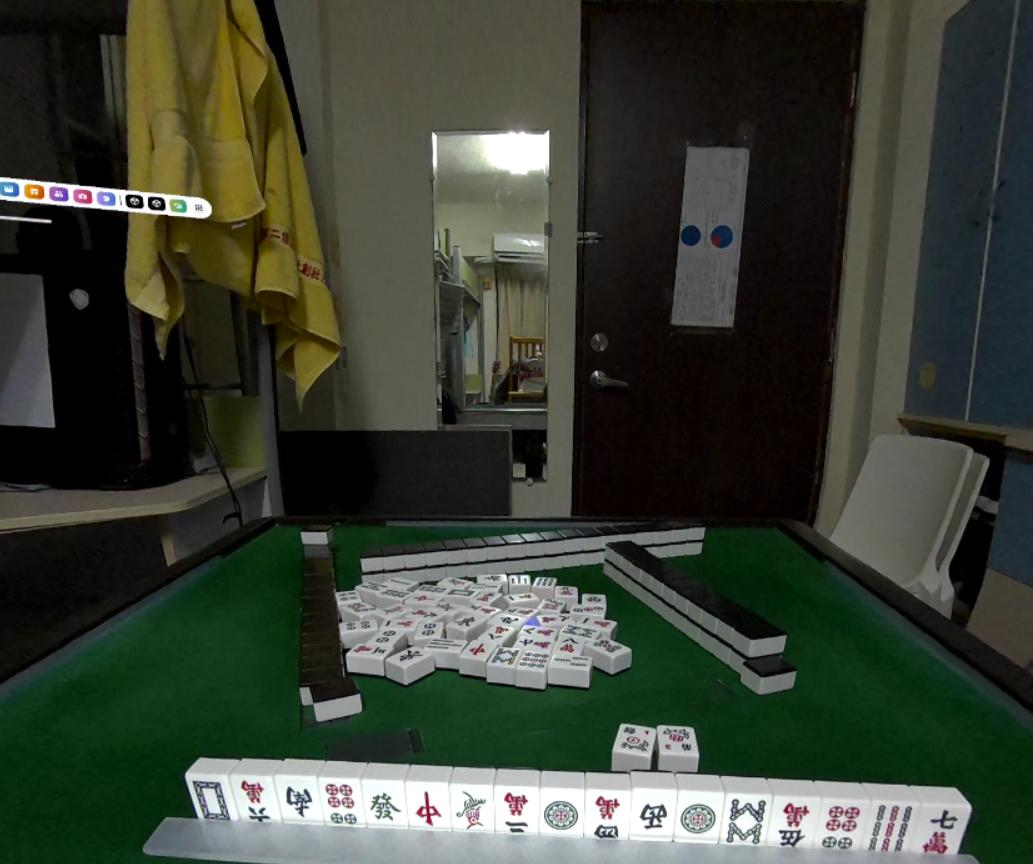mahjong: (721, 787, 772, 849), (773, 792, 819, 858), (273, 766, 321, 827), (821, 796, 868, 855), (920, 802, 969, 858), (539, 789, 587, 844), (621, 795, 675, 843), (871, 800, 917, 856), (357, 777, 405, 829), (494, 786, 541, 837), (320, 772, 362, 829), (191, 772, 237, 824), (407, 783, 454, 833), (587, 790, 629, 843), (233, 770, 274, 824), (676, 800, 723, 845), (453, 785, 491, 832)
